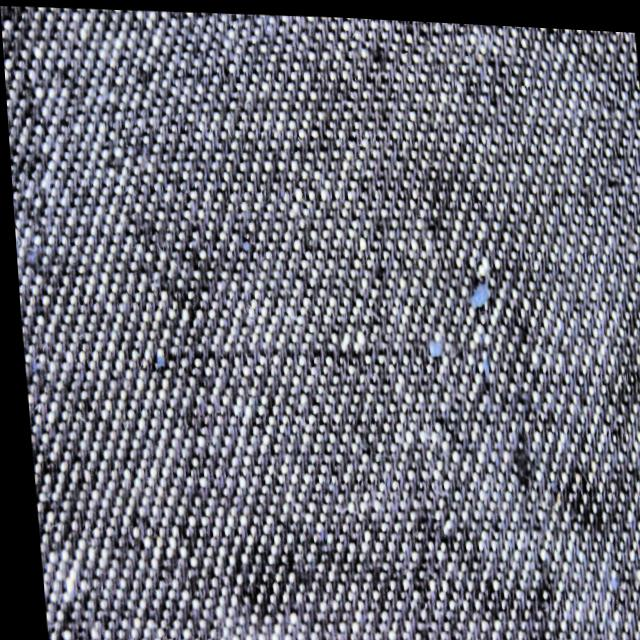Hole: (449, 238, 496, 323), (407, 311, 449, 376), (470, 341, 502, 404)
